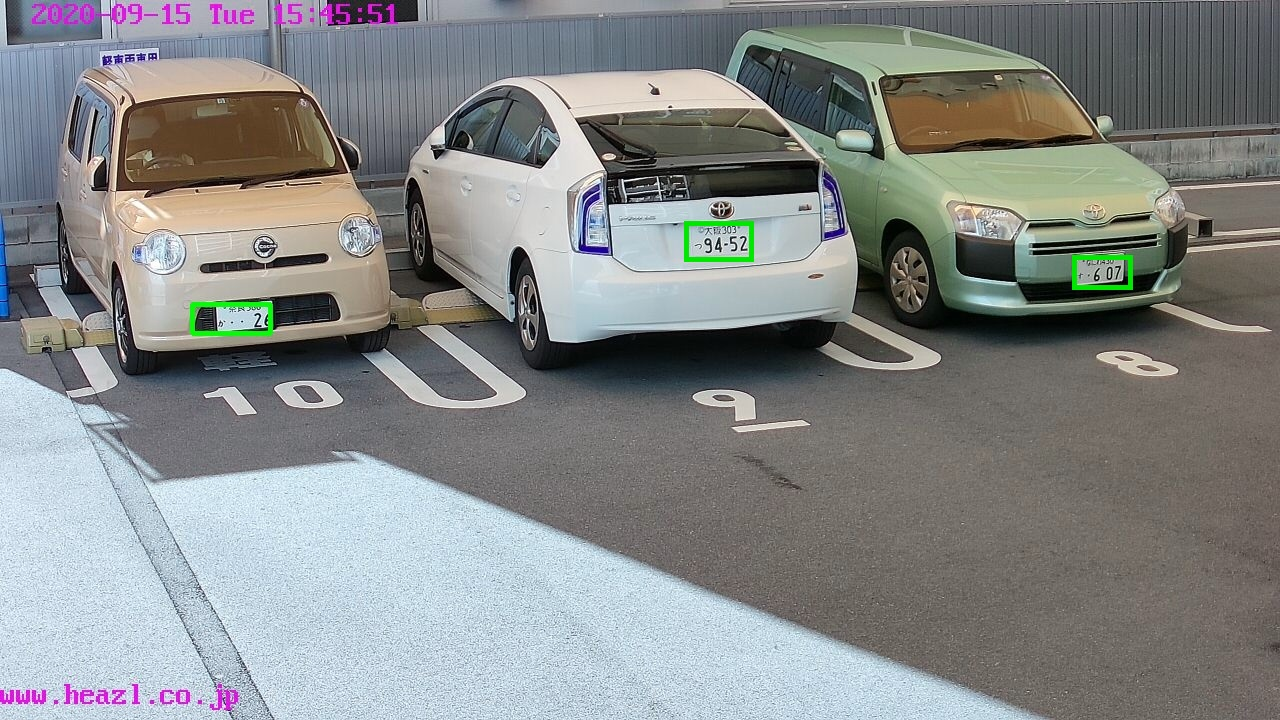number_plate: (690, 226, 752, 256), (216, 301, 274, 330), (1073, 253, 1126, 284)
